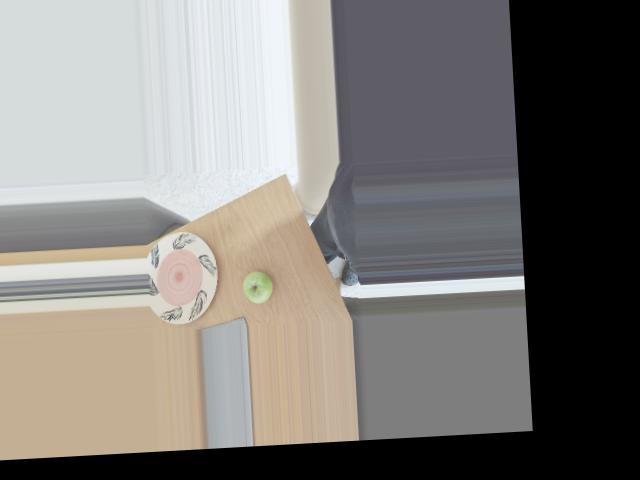apple: (240, 265, 280, 304)
